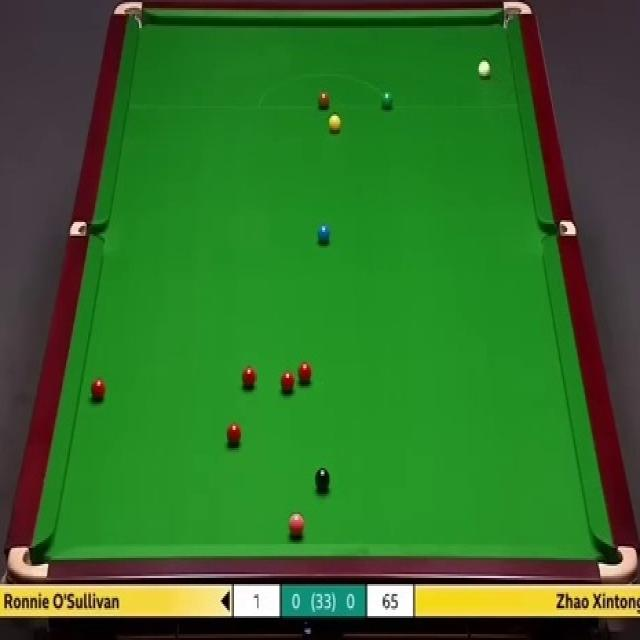black-ball: (315, 467, 330, 490)
blue-ball: (317, 224, 331, 246)
brown-ball: (318, 88, 330, 108)
green-ball: (379, 88, 393, 112)
pink-ball: (287, 512, 305, 535)
red-ball: (89, 377, 107, 402), (225, 421, 243, 445), (298, 360, 312, 384), (242, 365, 257, 386), (281, 371, 294, 394)
white-ball: (478, 60, 492, 81)
yellow-ball: (326, 113, 341, 134)
